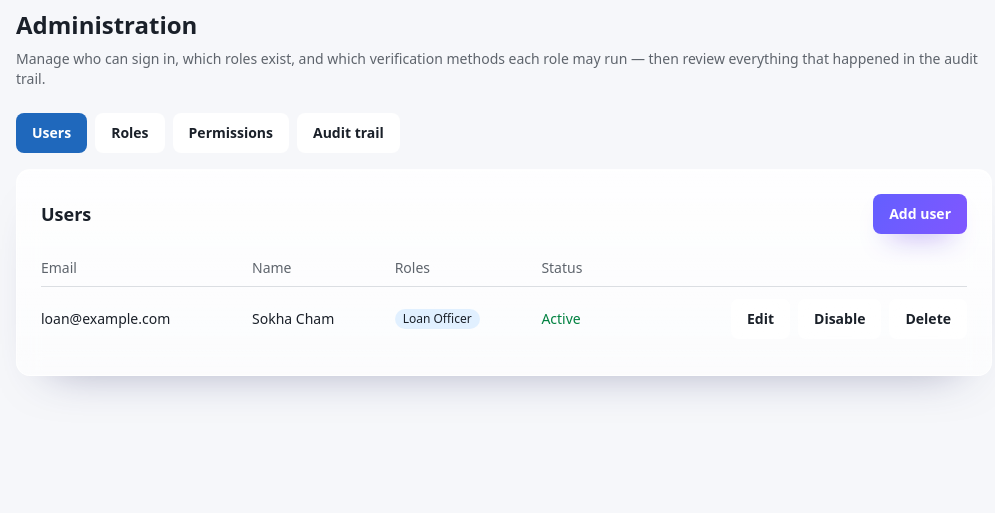
Test: the roles tab › shows the server refusal when a held role cannot be deleted
Click the tab "Roles" at (130, 133), box [95, 113, 164, 153]
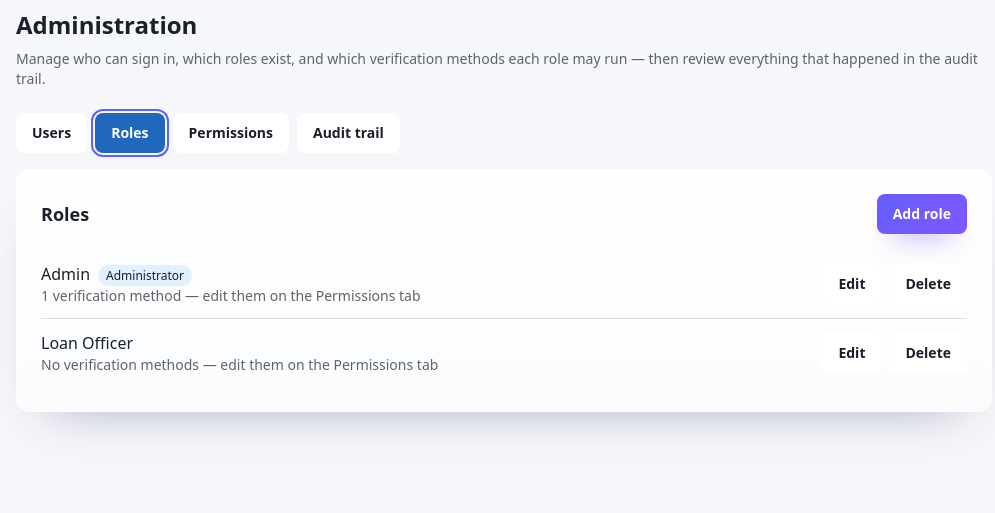
Click the button "Delete" in the row of "Administrator" at (928, 284), box [890, 264, 967, 304]
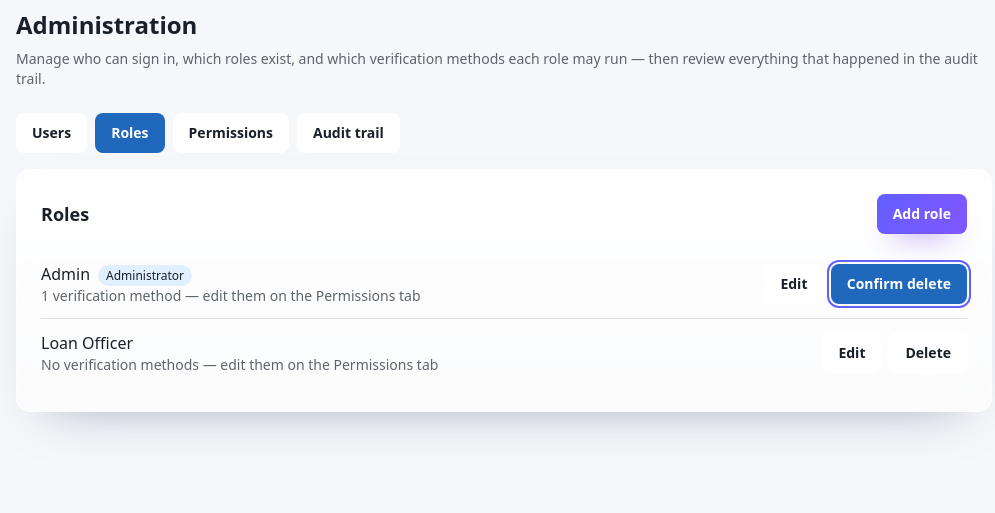
Click the button "Confirm delete" at (899, 284), box [831, 264, 967, 304]
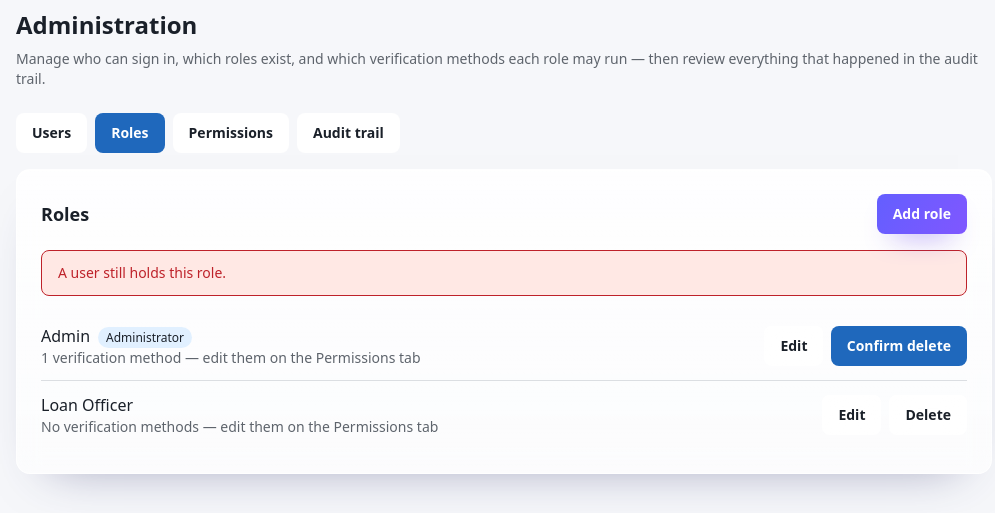
Expected: the message reads "A user still holds this role.", [58, 263, 226, 282]
